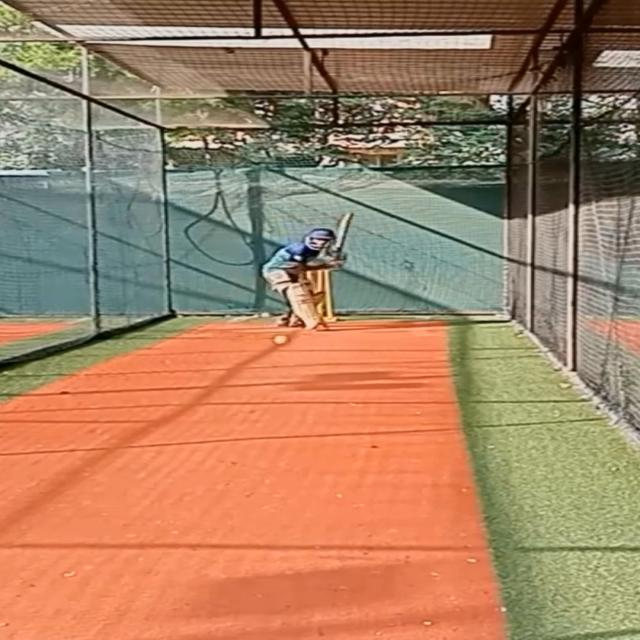ball: (270, 332, 294, 348)
stump: (301, 266, 340, 326)
